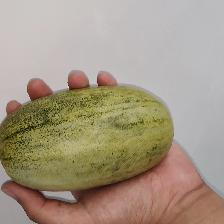gua: (7, 103, 175, 179)
